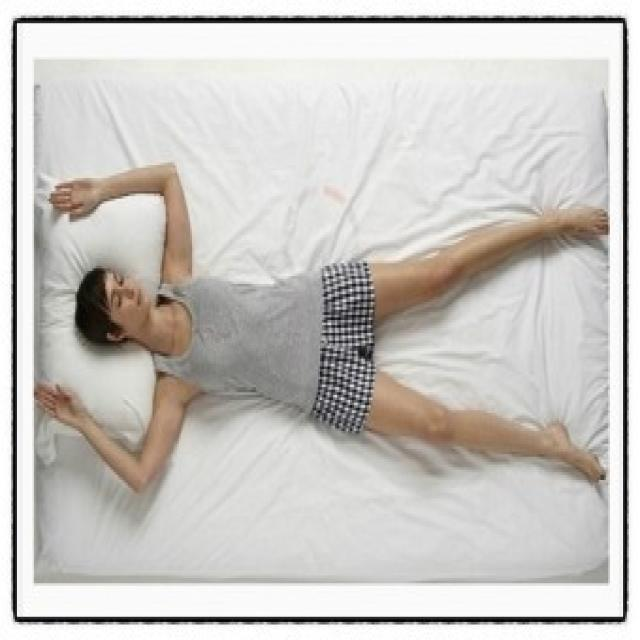people: (38, 128, 611, 546)
